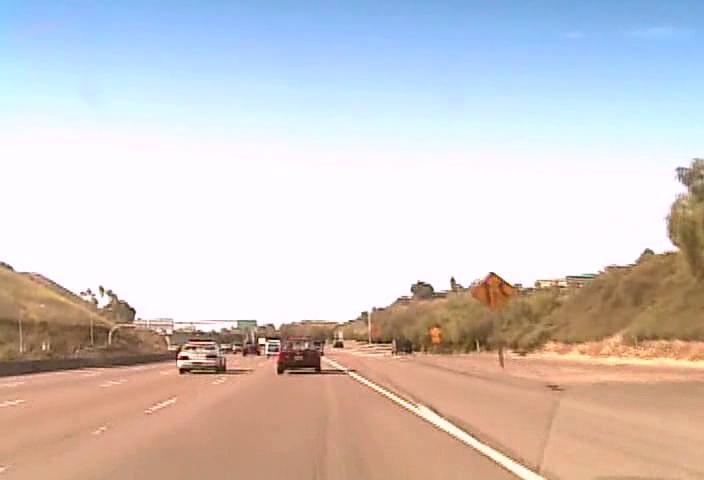addedLane: (470, 271, 515, 313)
